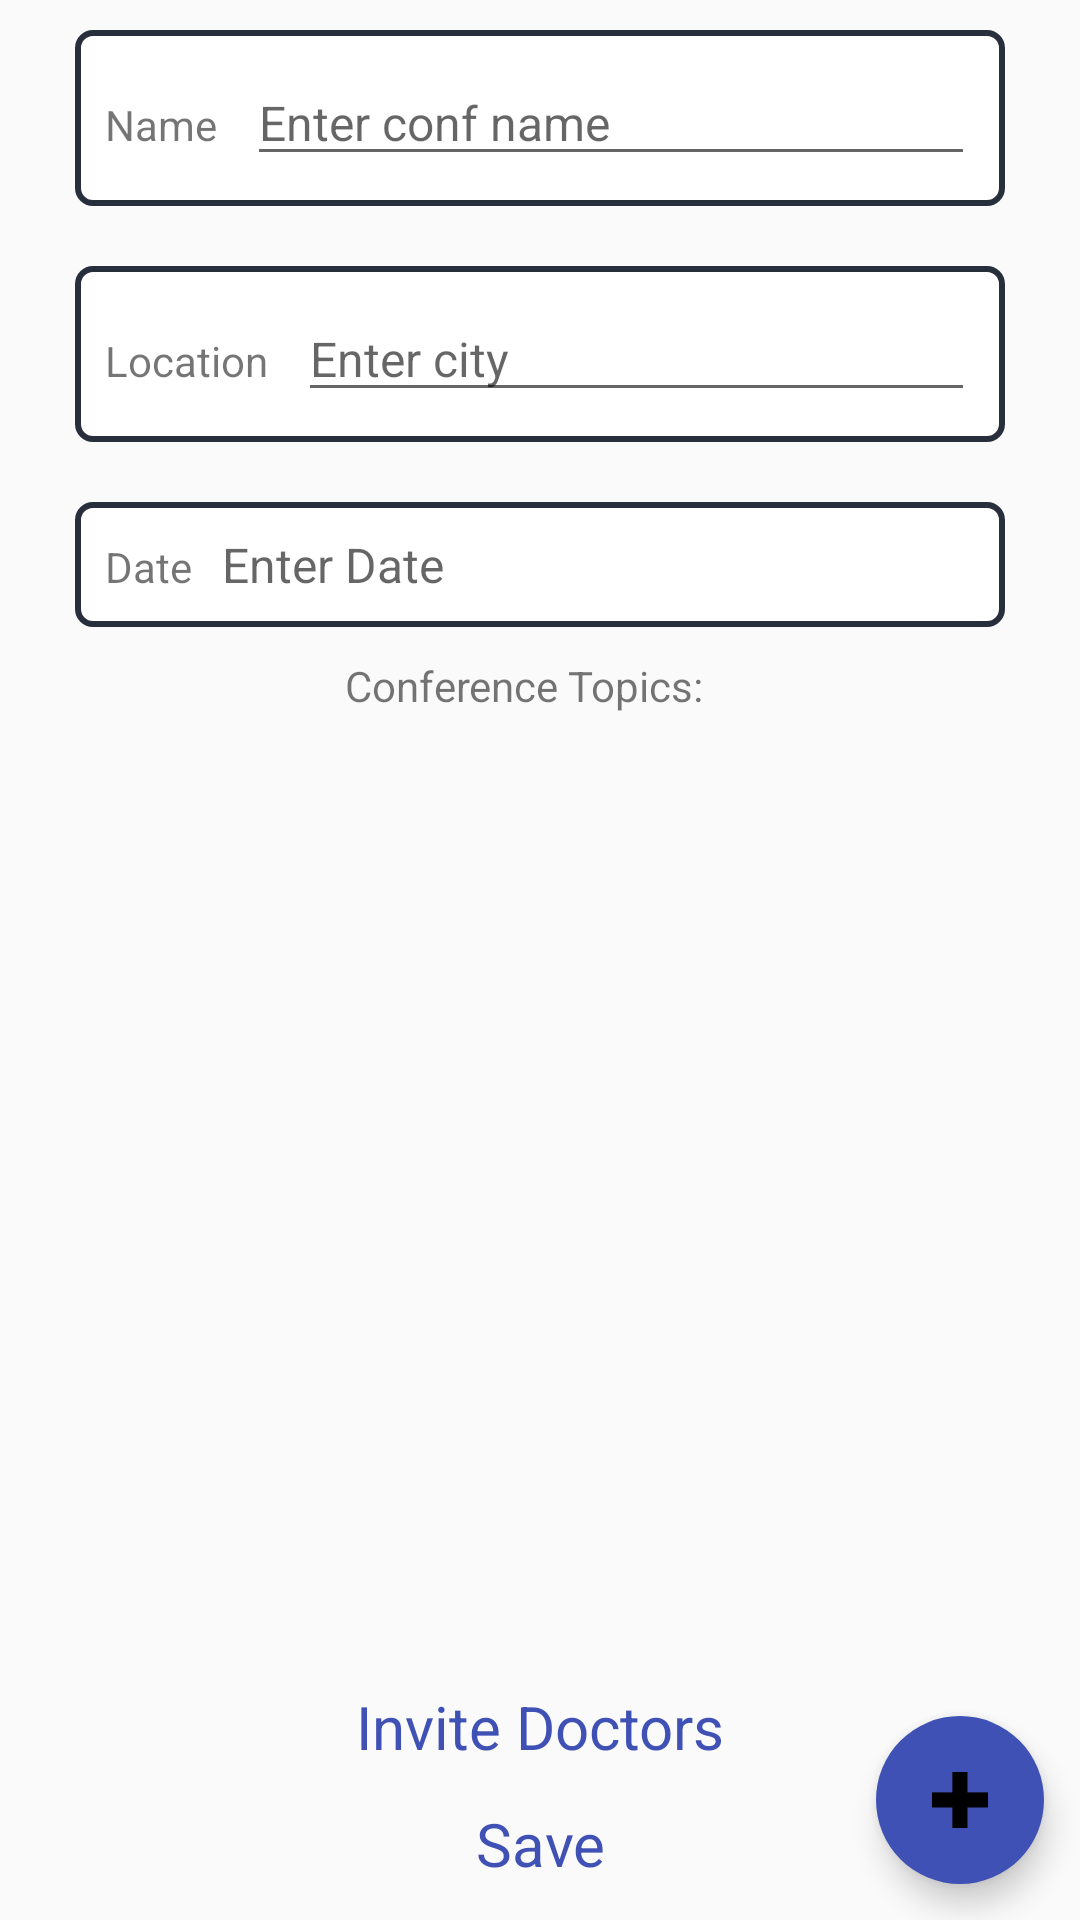

Icon bounding boxes for this 1080 × 1920 phone screenshot, format (x1, y1, x2, y2):
add: (876, 1716, 1044, 1884)
